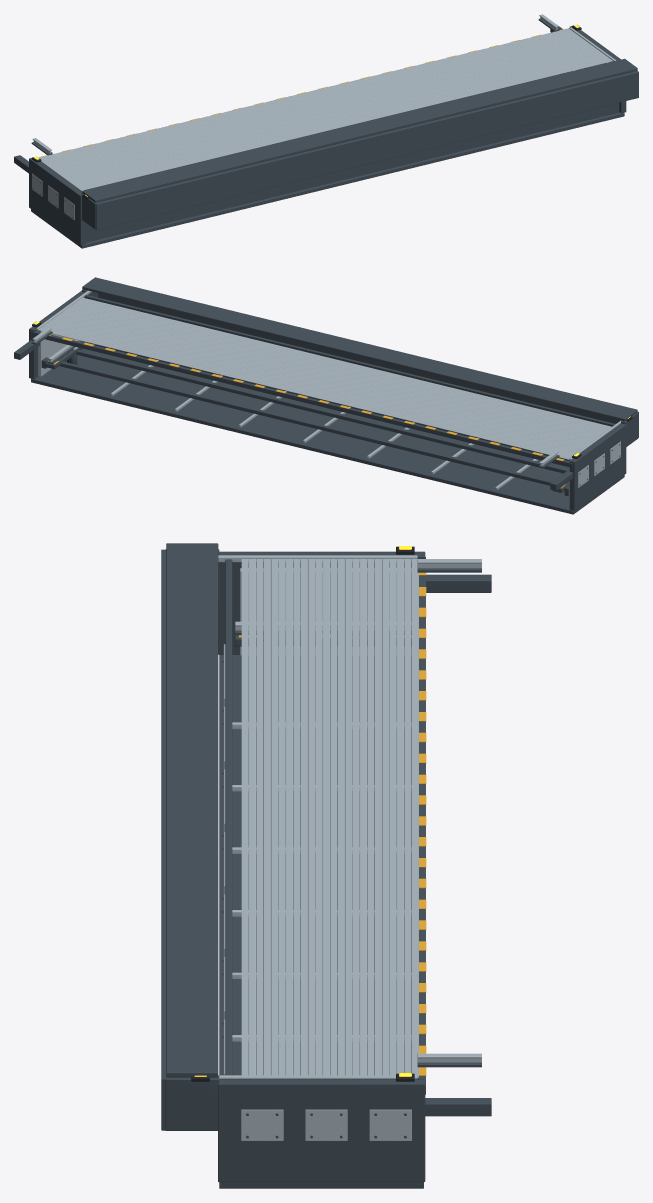
File: saw_service_dock.glb
The picture shows the model from 3 angles, top to bottom: view 1: azimuth 30°, elevation 25°; view 2: azimuth 150°, elevation 25°; view 3: azimuth 270°, elevation 25°; orthographic projection. The views are drawn at different scales.
Visible parts, largest first — view 1: DOCK_STATIC_Dock_Graphite, Slat_23, Slat_05, Slat_10, Slat_11, Slat_12, Slat_14, Slat_15, Slat_18, Slat_20, Slat_01, Slat_03 (+15 smaller); view 2: DOCK_STATIC_Dock_Graphite, DOCK_LIFT_Dock_Graphite, DOCK_STATIC_Dock_BrushedSteel, Slat_00, Slat_19, Slat_05, Slat_06, Slat_08, Slat_12, Slat_17, Slat_03, Slat_04 (+16 smaller); view 3: DOCK_STATIC_Dock_Graphite, DOCK_STATIC_Dock_BrushedSteel, Slat_04, Slat_05, Slat_06, Slat_08, Slat_09, Slat_10, Slat_11, Slat_13, Slat_14, Slat_15 (+16 smaller).
Part boxes in pixels (<box>): DOCK_STATIC_Dock_Graphite: <box>14,18,638,248</box>; Slat_23: <box>82,59,612,190</box>; Slat_05: <box>48,35,579,165</box>; Slat_10: <box>57,42,588,172</box>; Slat_11: <box>59,43,590,173</box>; Slat_12: <box>61,44,592,175</box>; Slat_14: <box>65,47,595,177</box>; Slat_15: <box>67,48,597,179</box>; Slat_18: <box>72,53,603,183</box>; Slat_20: <box>76,55,607,185</box>; Slat_01: <box>41,30,571,160</box>; Slat_03: <box>45,32,575,162</box>; DOCK_STATIC_Dock_Graphite: <box>14,277,638,514</box>; DOCK_LIFT_Dock_Graphite: <box>41,341,568,496</box>; DOCK_STATIC_Dock_BrushedSteel: <box>32,290,621,505</box>; Slat_00: <box>38,328,569,459</box>; Slat_19: <box>73,303,604,433</box>; Slat_05: <box>47,322,578,452</box>; Slat_06: <box>49,320,580,450</box>; Slat_08: <box>53,318,583,448</box>; Slat_12: <box>60,312,591,442</box>; Slat_17: <box>70,305,600,435</box>; Slat_03: <box>44,324,574,454</box>; Slat_04: <box>46,323,576,453</box>; DOCK_STATIC_Dock_Graphite: <box>161,543,491,1188</box>; DOCK_STATIC_Dock_BrushedSteel: <box>218,555,481,1140</box>; Slat_04: <box>382,559,389,1075</box>; Slat_05: <box>374,559,381,1075</box>; Slat_06: <box>367,559,374,1075</box>; Slat_08: <box>352,559,359,1075</box>; Slat_09: <box>345,559,352,1075</box>; Slat_10: <box>337,559,344,1075</box>; Slat_11: <box>330,559,337,1075</box>; Slat_13: <box>315,559,322,1075</box>; Slat_14: <box>308,559,315,1075</box>; Slat_15: <box>300,559,307,1075</box>.
Bounding box in the file's own units: 25.63 × 2.6 × 6.7.
